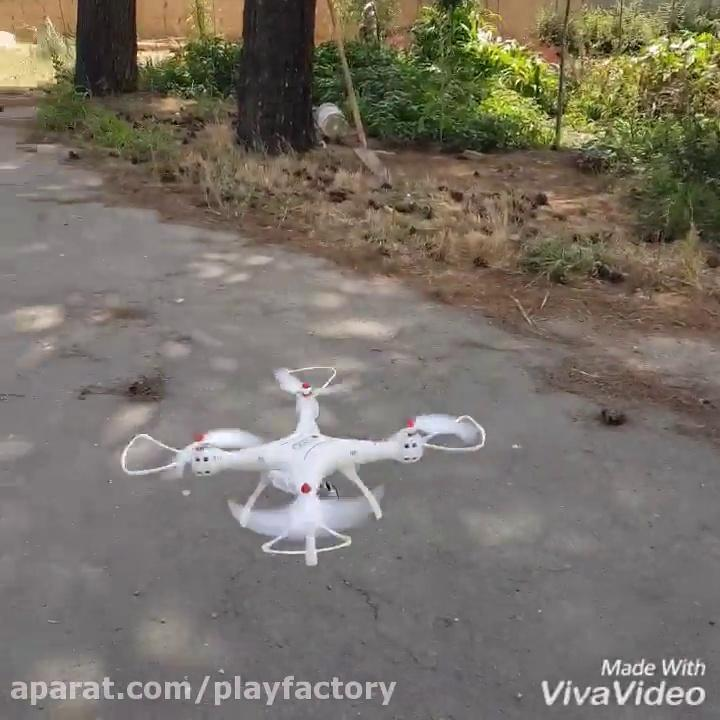drone: (117, 362, 491, 568)
